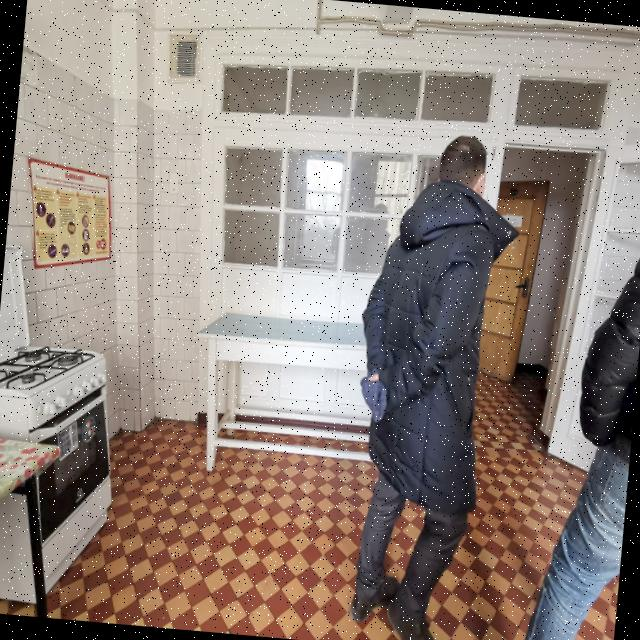NoHelmet: (436, 132, 495, 205)
